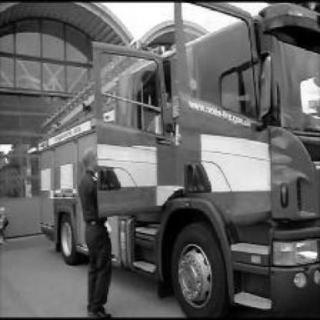other: (97, 112, 264, 212)
